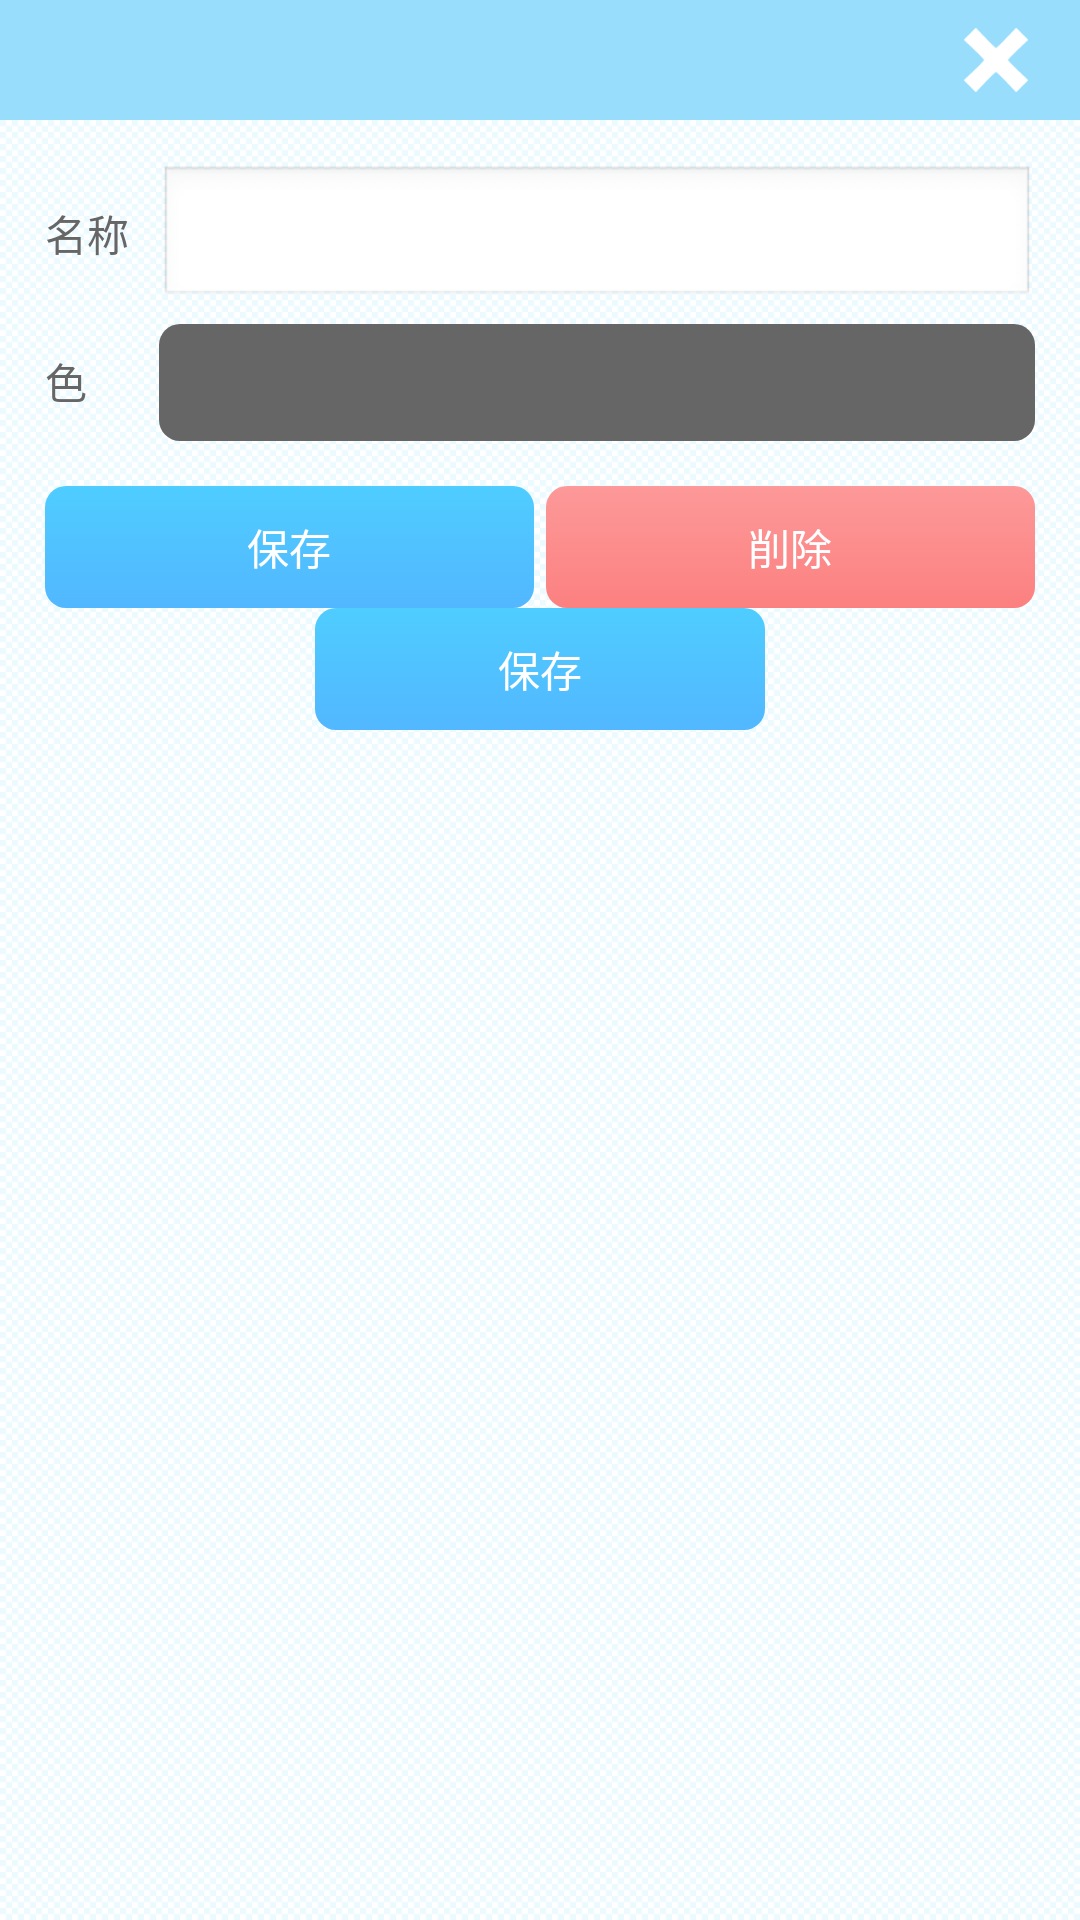

Icon bounding boxes for this 1080 x 1920 phone screenshot, format (x1,y1,x2,y2):
close: (964,28,1028,92)
